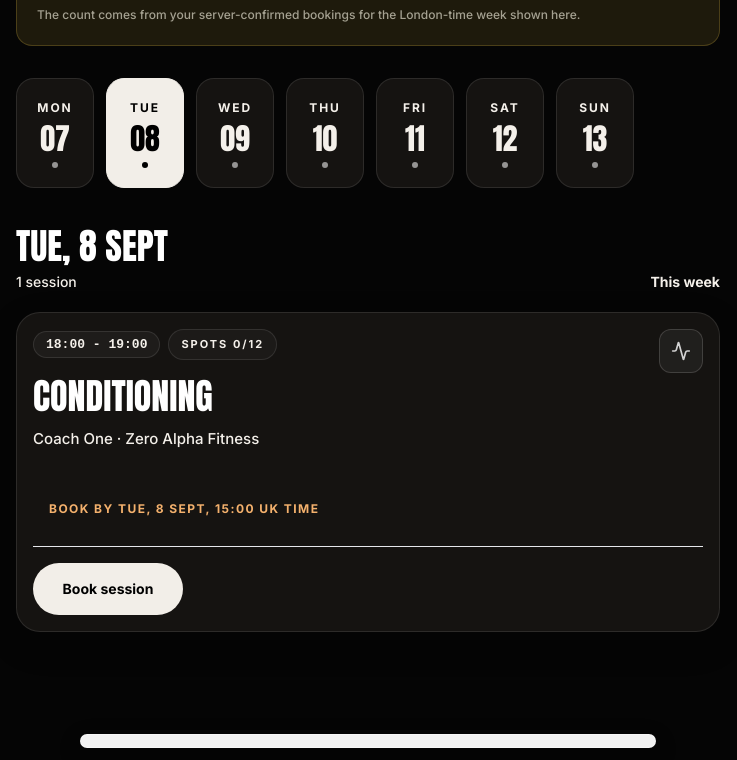
it: member schedule hardening › refreshes and announces the server-confirmed allowance after booking and cancellation
(page scrolled)
Click the button "Book session" at (108, 589), box [33,563,183,615]
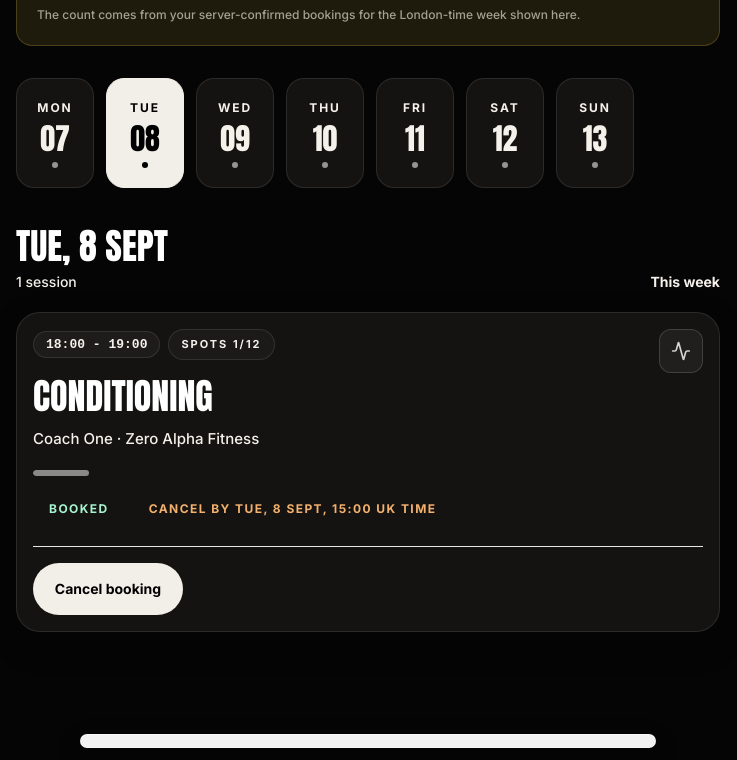
Click the button "Cancel booking" at (108, 589), box [33,563,183,615]
(page scrolled)
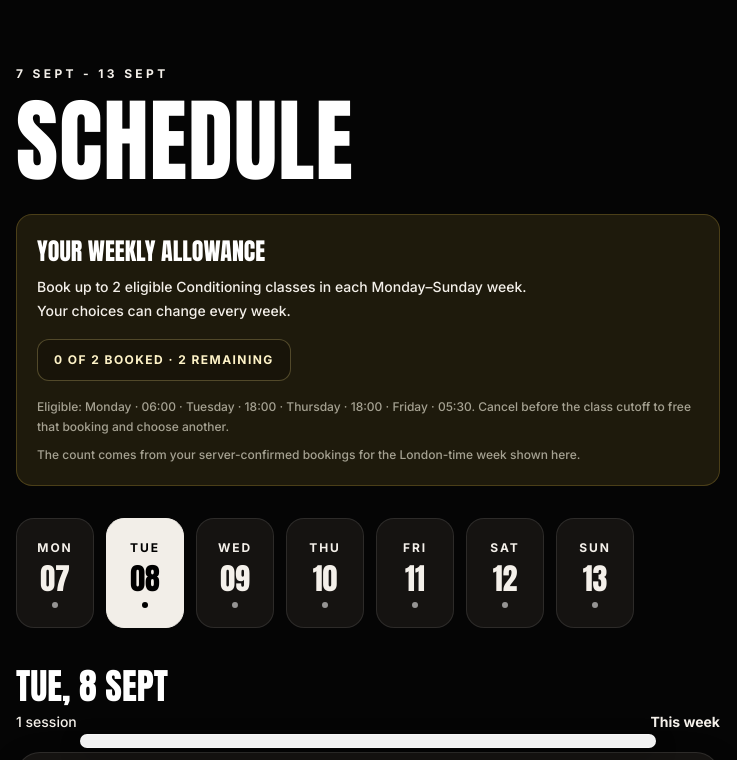
Expected: the text "0 of 2 booked · 2 remaining" is shown, [37,339,291,381]
